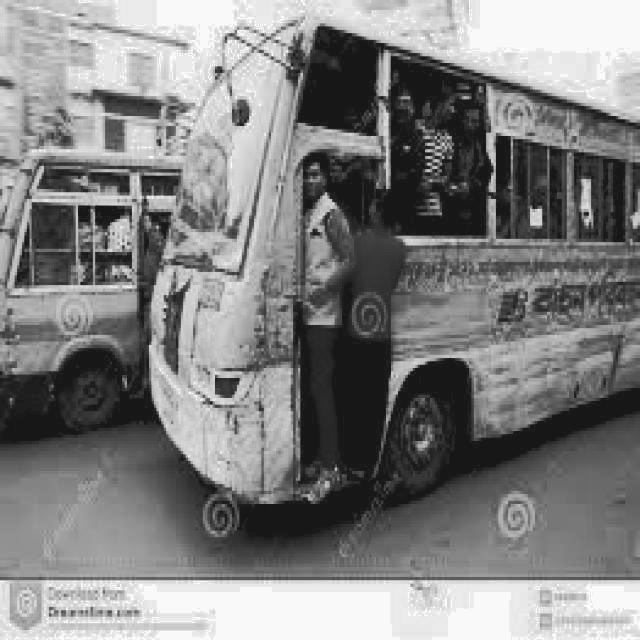Bus: (142, 18, 640, 528), (0, 119, 157, 453)
